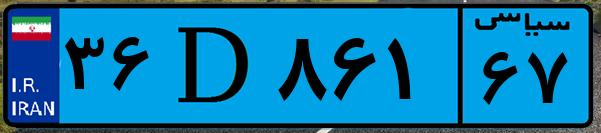1: (385, 28, 445, 110)
3: (57, 26, 110, 100)
6: (330, 28, 385, 110), (475, 38, 525, 113), (110, 28, 158, 98)
7: (525, 38, 570, 115)
8: (270, 28, 330, 110)
D: (158, 12, 270, 120)
